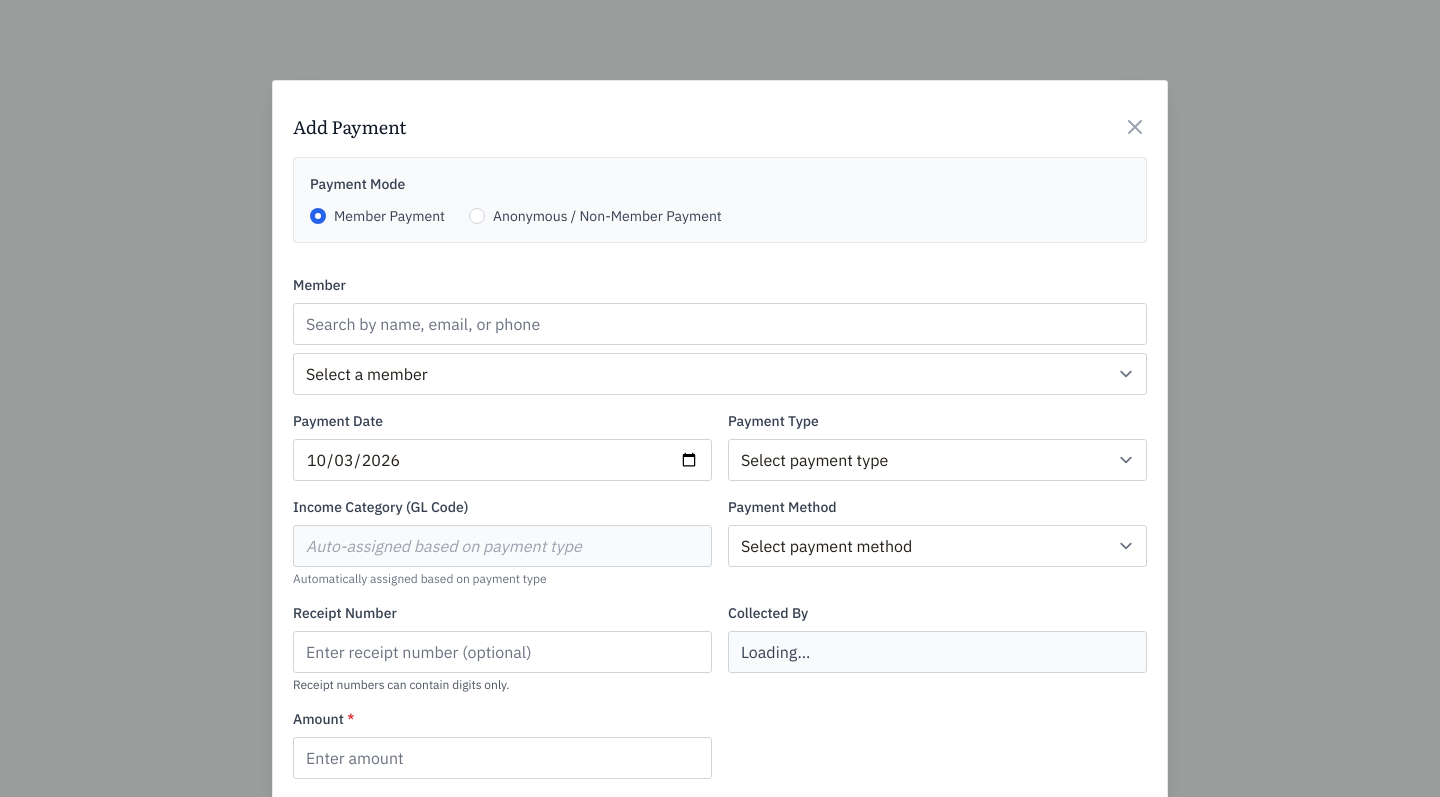
Test: Add Payment — skipped receipt warning › makes them confirm again if they change the number to another skip
Type "6014" into the field labelled "Receipt Number" at x=502, y=652, box [293,631,712,673]
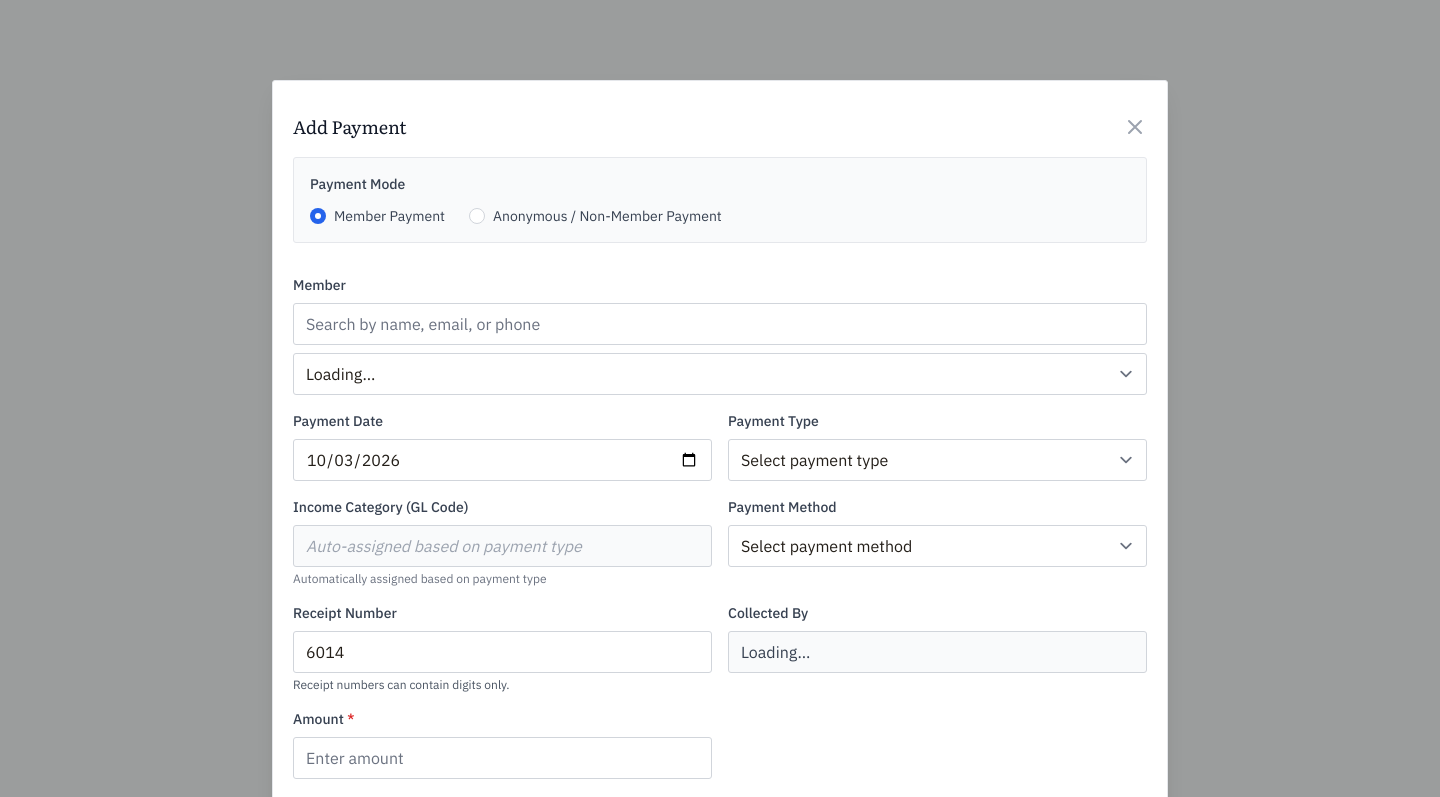
Leave the field labelled "Receipt Number", box [293,631,712,673]
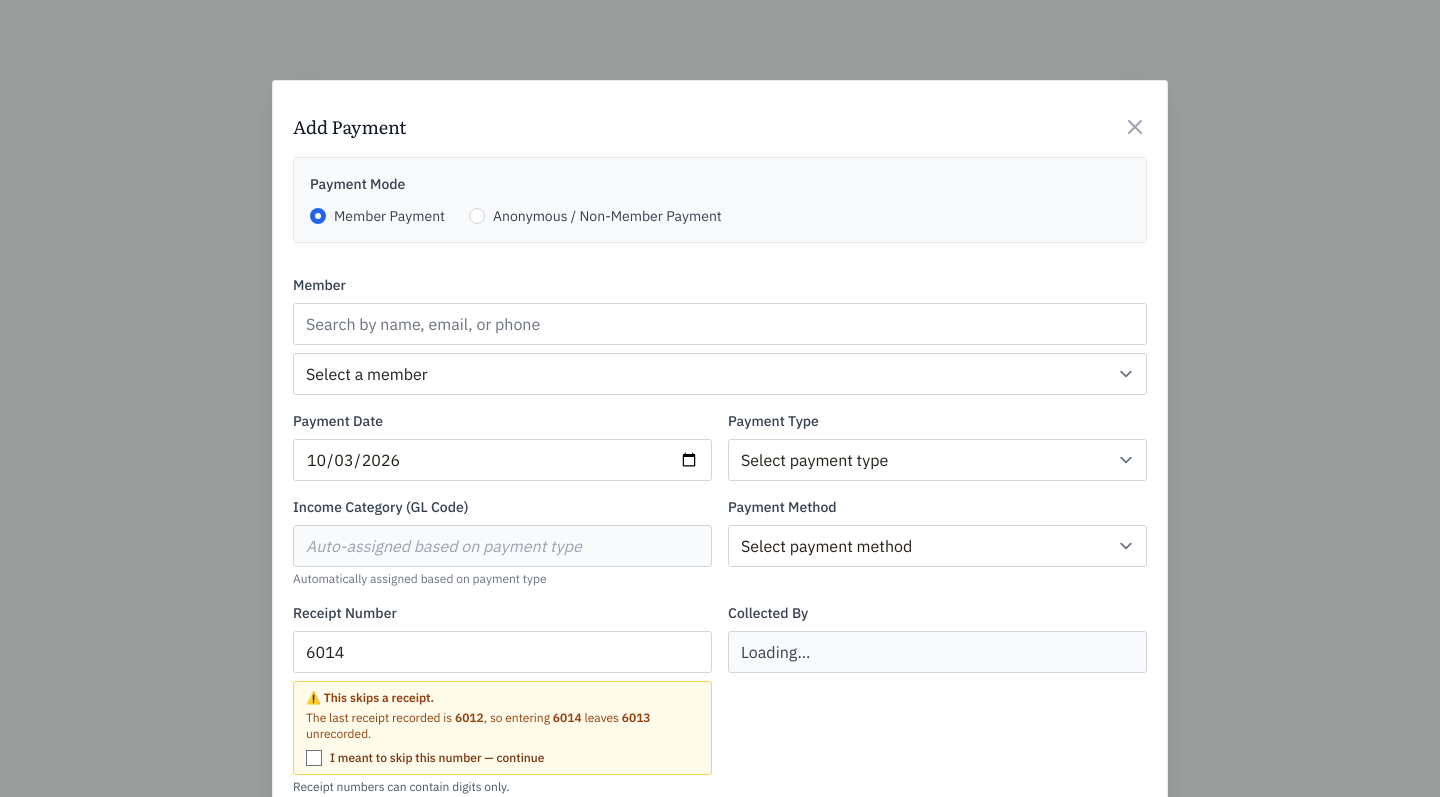
Expected: the element with test id "receipt-skip-warning" is shown, [293,681,712,775]
Click the checkbox with test id "receipt-skip-confirm" at x=314, y=758, box [306,750,322,766]
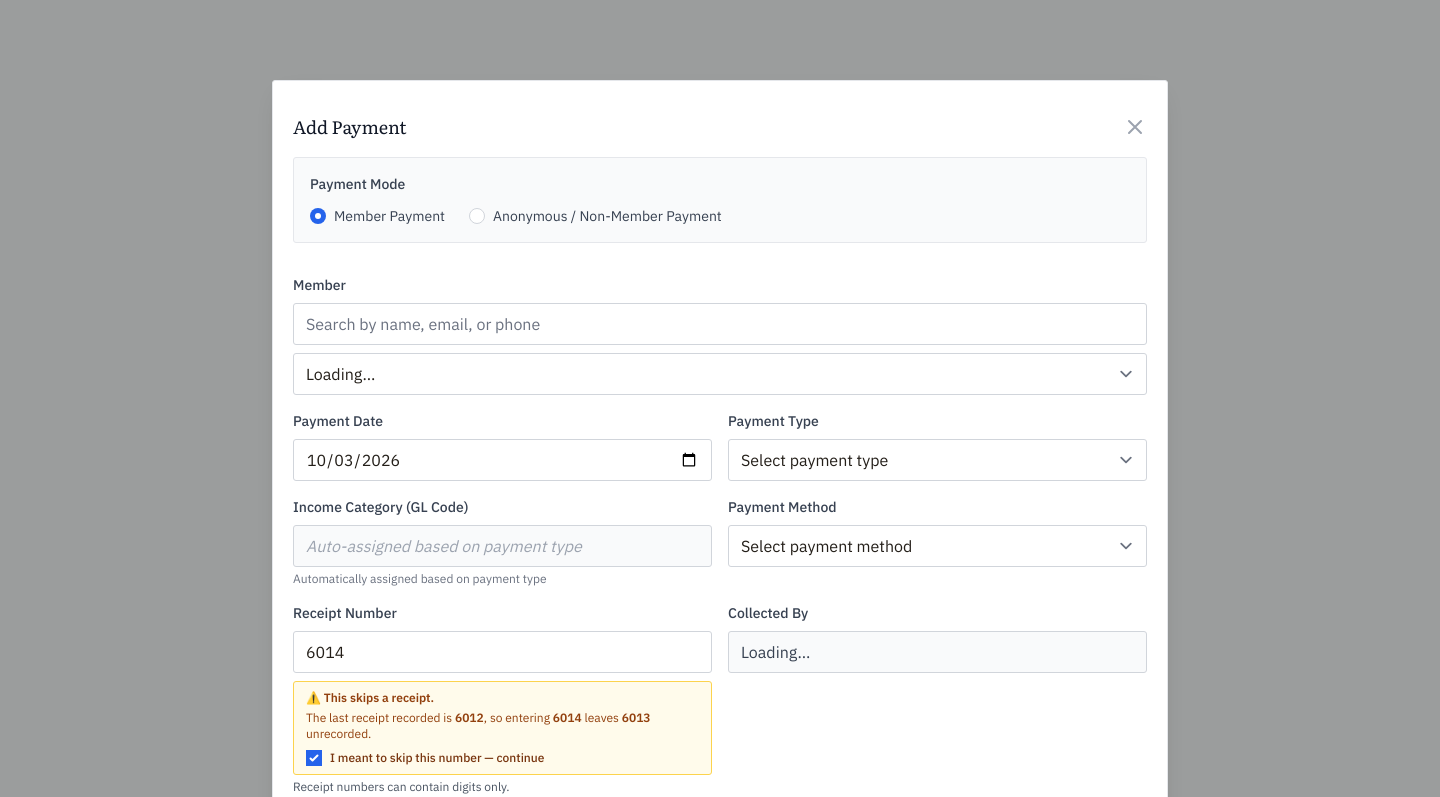
Expected: the checkbox with test id "receipt-skip-confirm" is checked, [306,750,322,766]
Replace the text in the field labelled "Receipt Number" with "6020" at x=502, y=652, box [293,631,712,673]
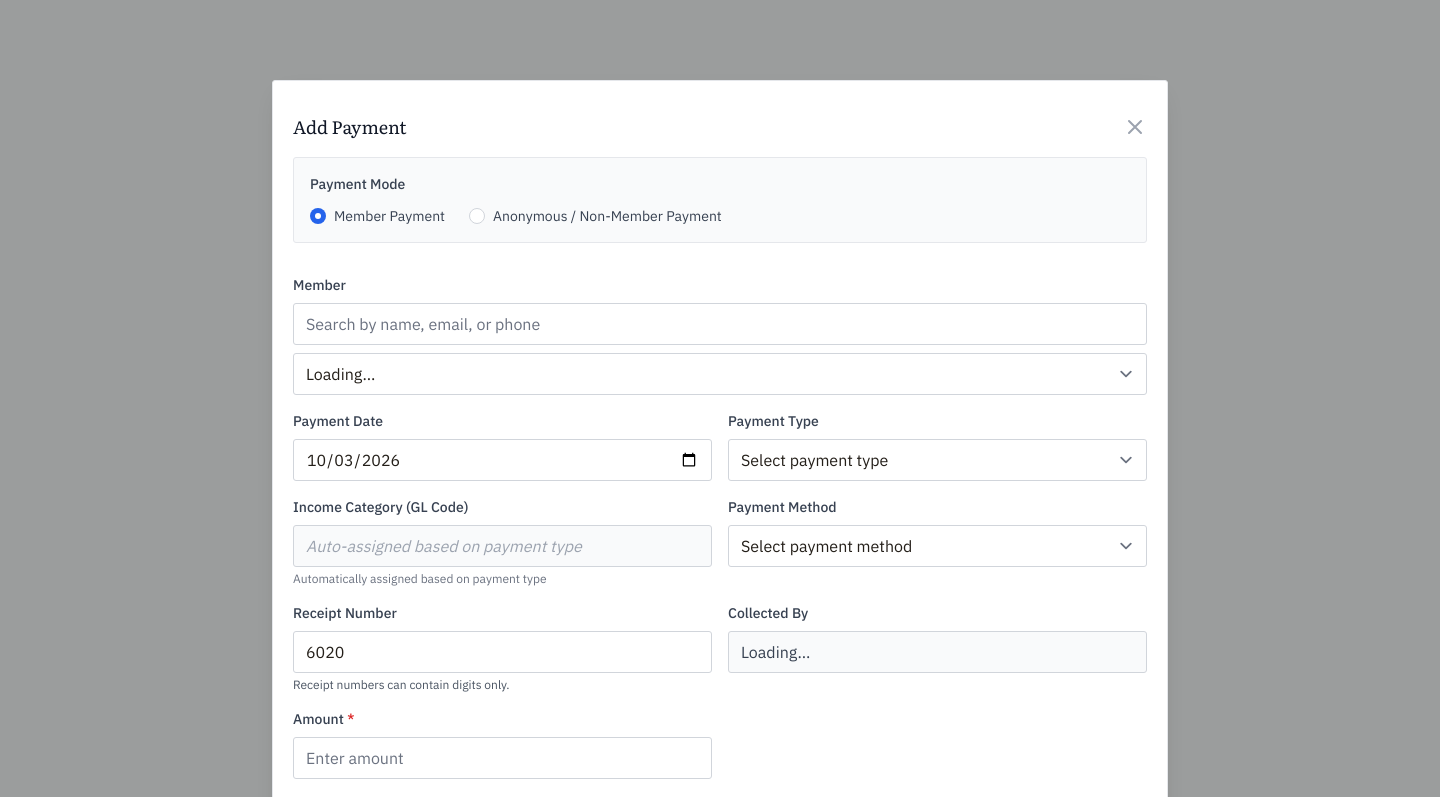
Leave the field labelled "Receipt Number", box [293,631,712,673]
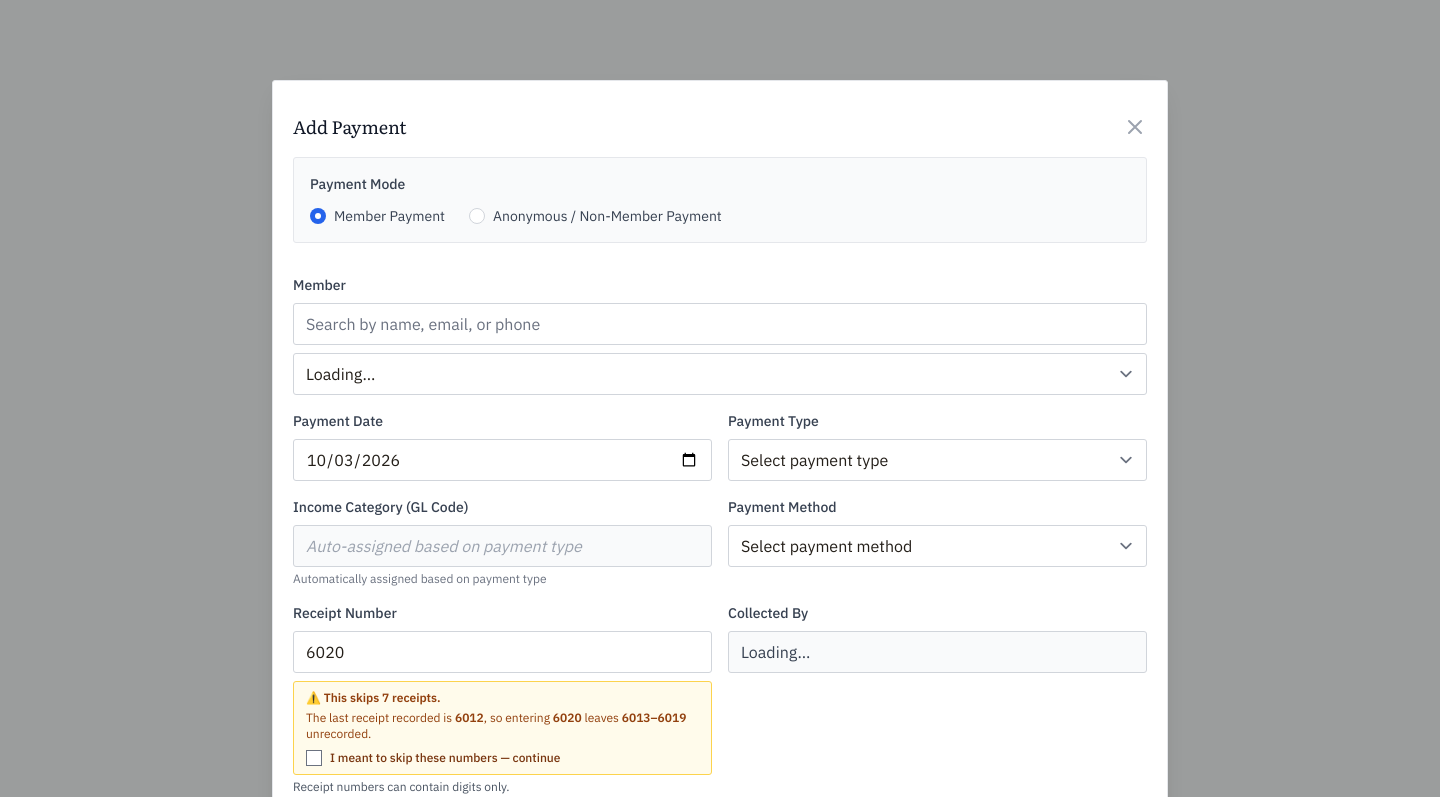
Expected: the checkbox with test id "receipt-skip-confirm" is not checked, [306,750,322,766]
